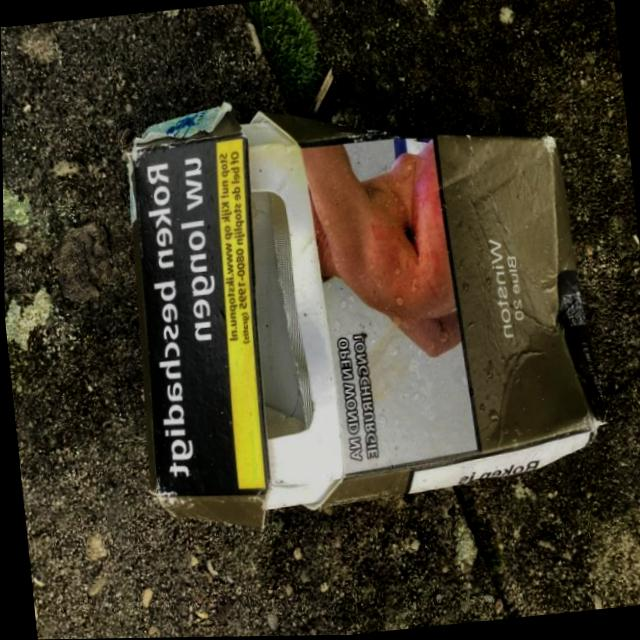Paper: (102, 58, 621, 546)
